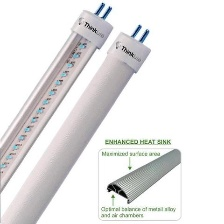light_bulb: (0, 14, 154, 224), (0, 1, 113, 209)
